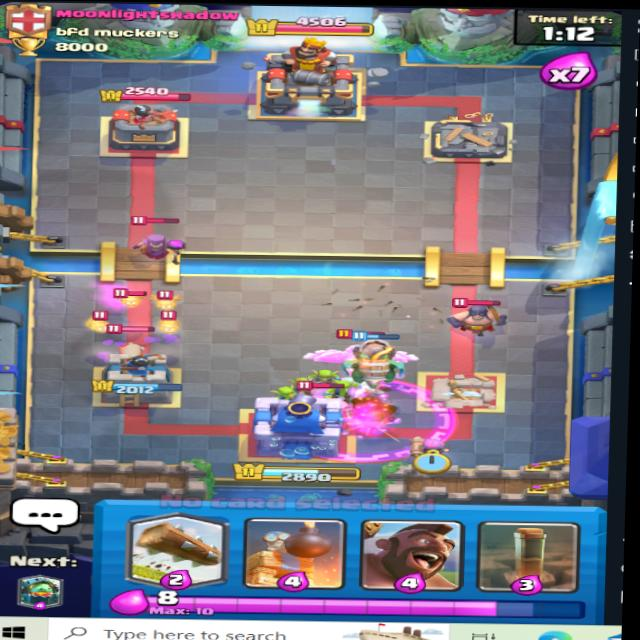executioner: (451, 292, 512, 335)
mother-witch: (122, 211, 191, 264)
pig: (109, 328, 156, 365)
rage: (285, 379, 454, 460)
